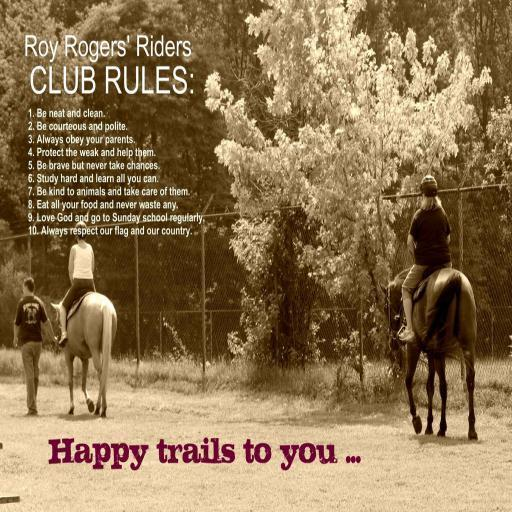horse: (378, 266, 480, 444), (51, 289, 117, 420)
